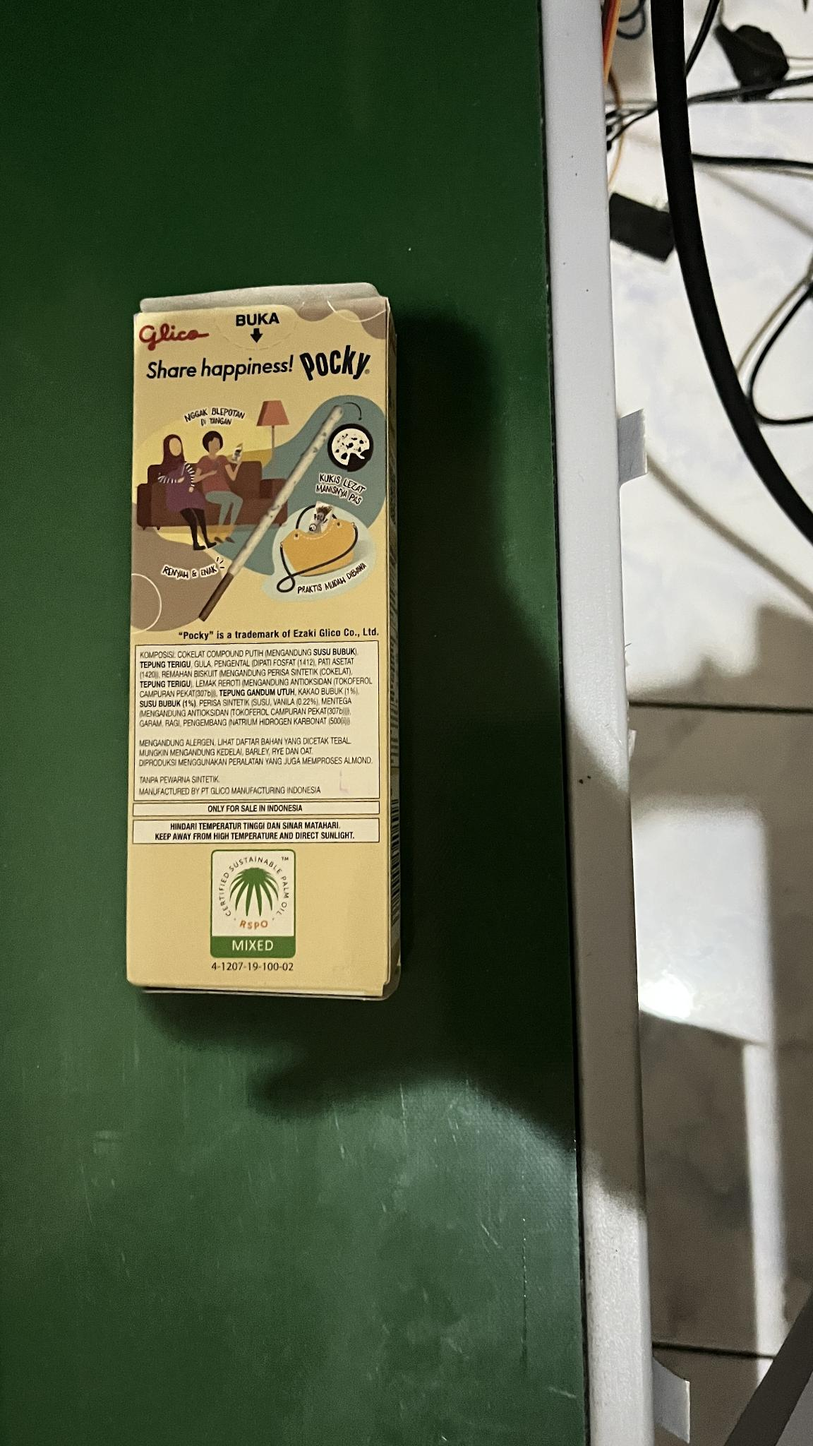Kertas: (143, 290, 398, 1001)
